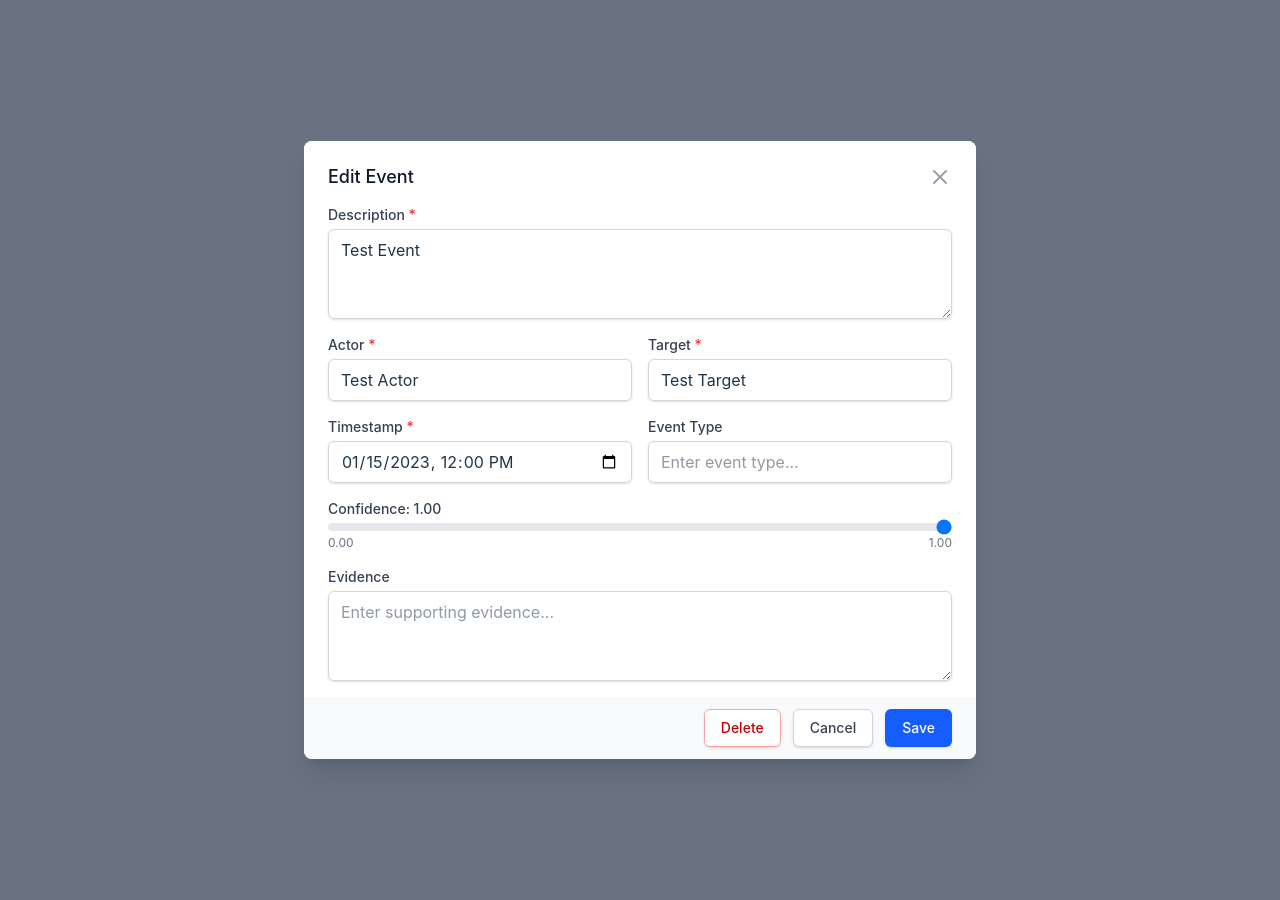
Test: EventDetailModal › Delete Actions › shows delete confirmation dialog when delete is clicked
Click the button "Delete". click: [742, 728]
box: [704,709,781,747]
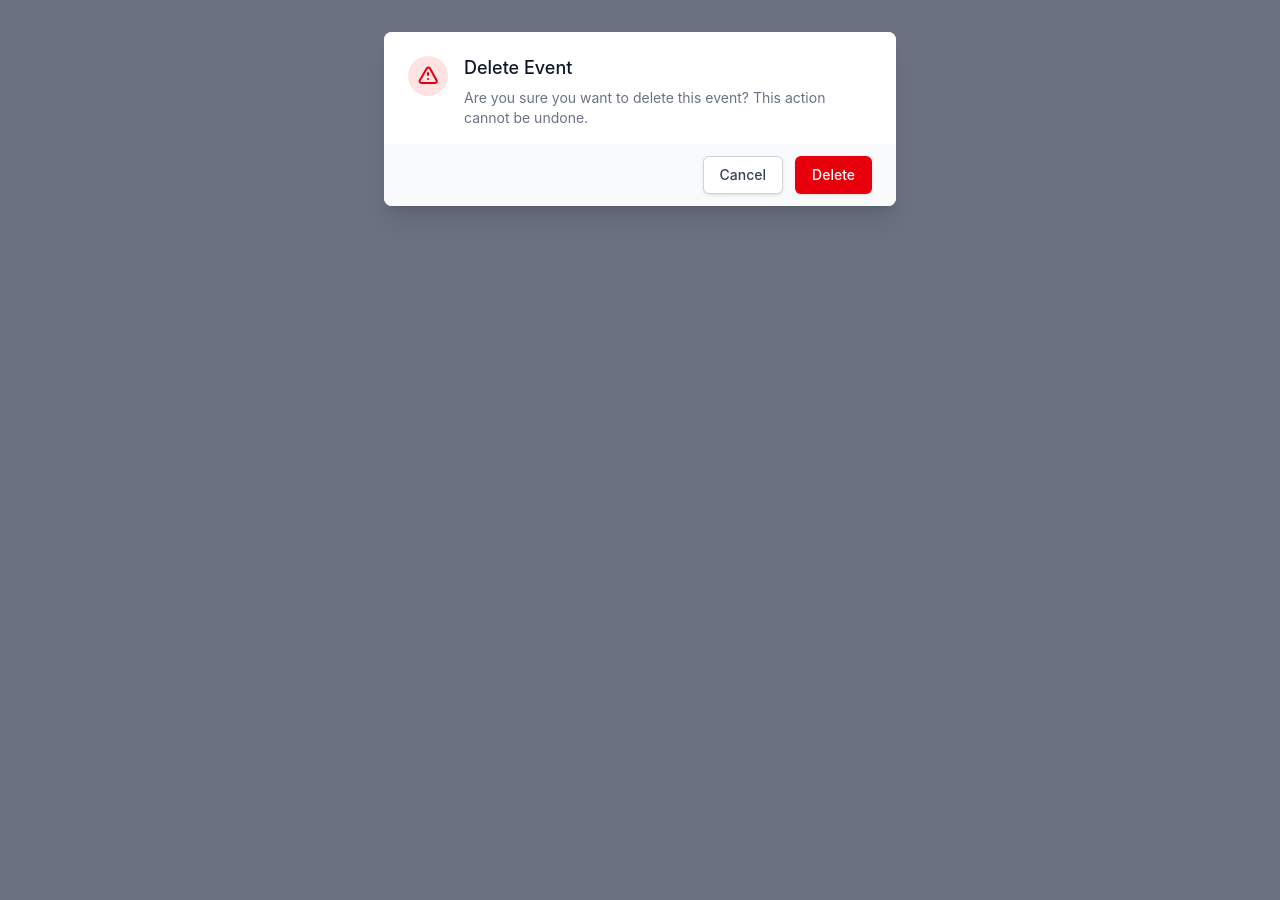
Result: the heading "Delete Event" is shown at [464,57,572,78]
Result: the text "Are you sure you want to delete" is shown at [464,89,825,126]
